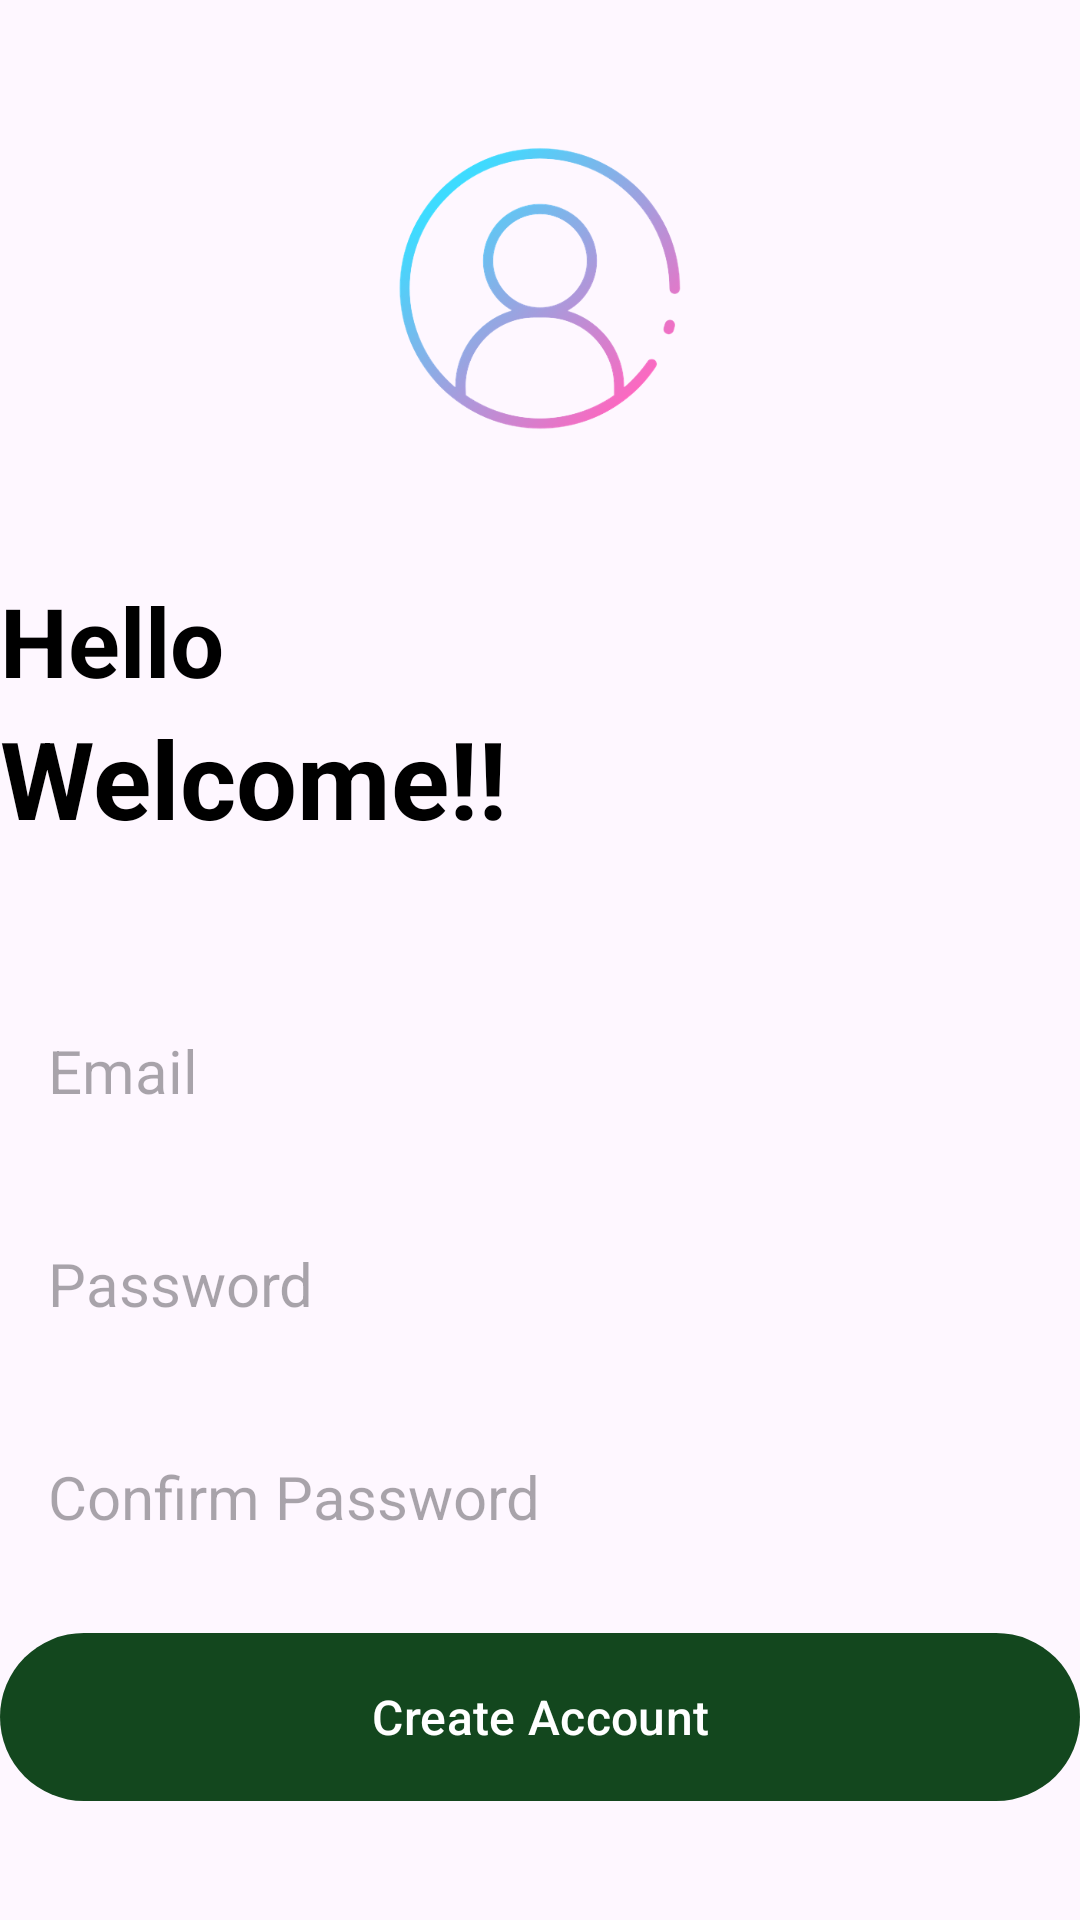

Where to tap for icons on this 1080px×1920px app screen, as (x=x, y=y):
signup: (x=539, y=288)
